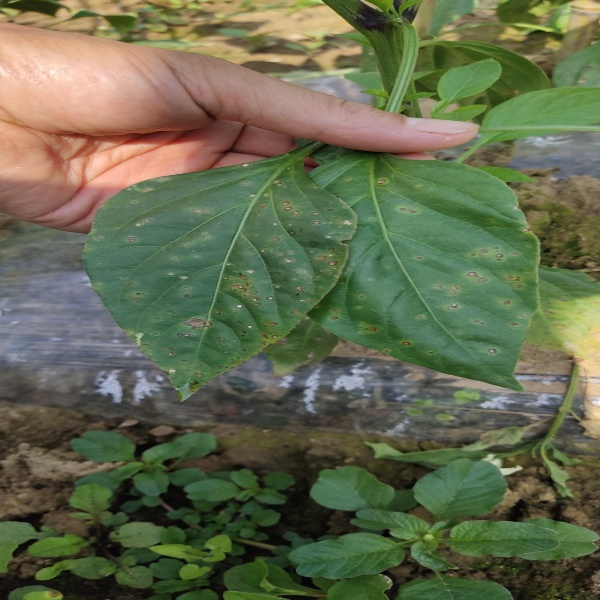Anthrax: (129, 183, 357, 391), (415, 242, 537, 359), (329, 303, 413, 359), (374, 170, 421, 216)
